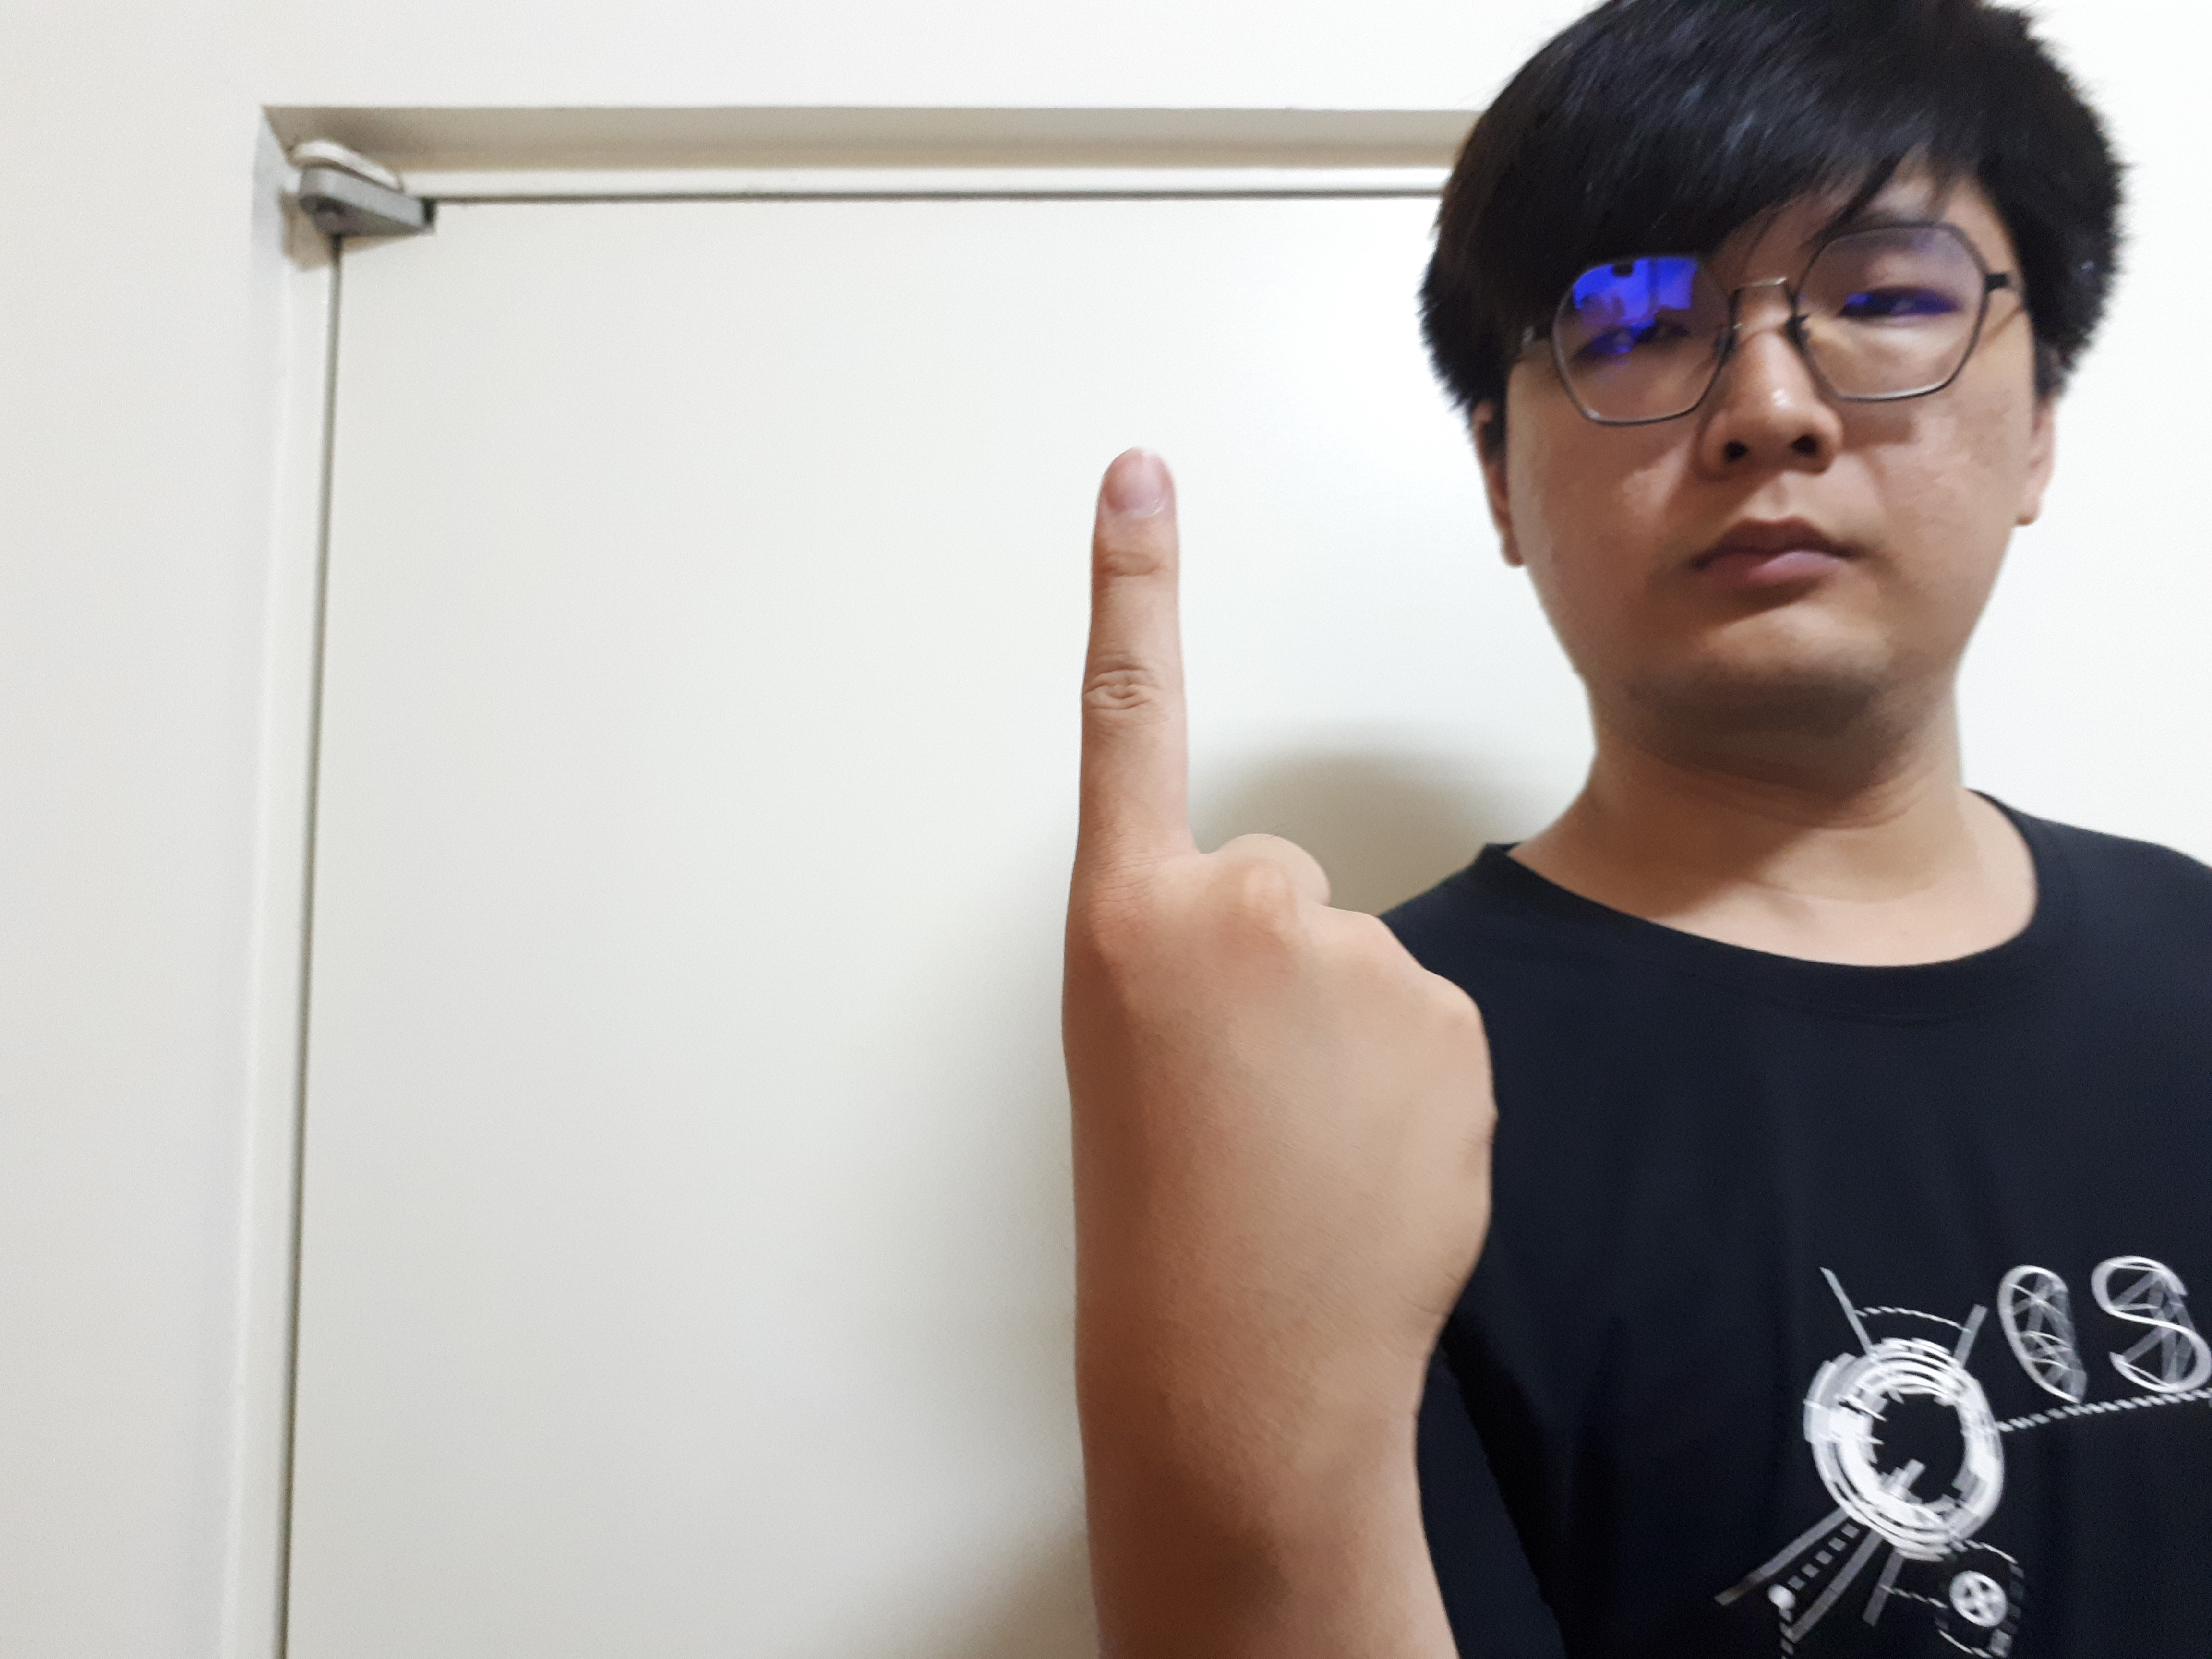up: (1021, 434, 1524, 1518)
